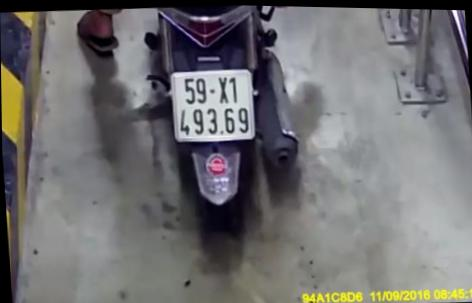LP: (168, 63, 257, 144)
